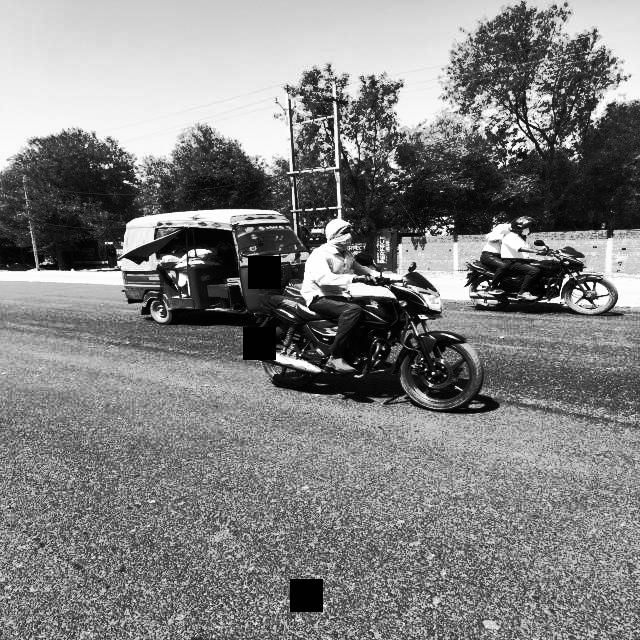Auto-Rickshaw: (102, 205, 314, 331)
